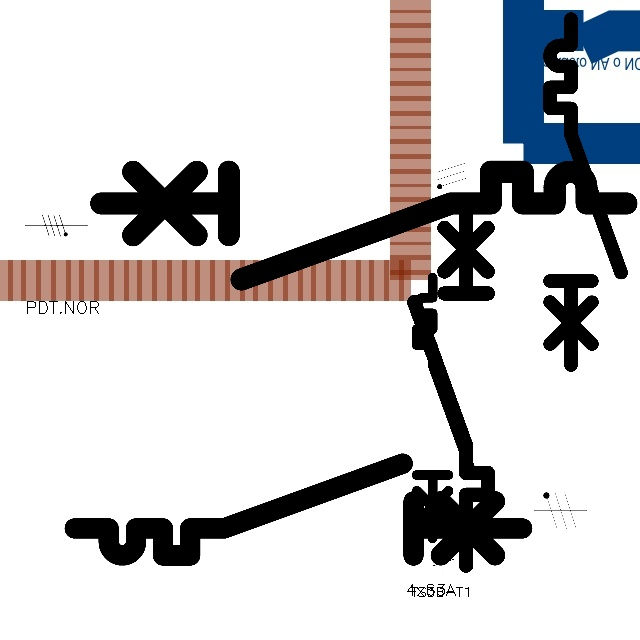interruptor_termomagnetico: (87, 158, 640, 293), (63, 452, 533, 567), (405, 196, 497, 574), (541, 10, 630, 374), (410, 271, 477, 545)
